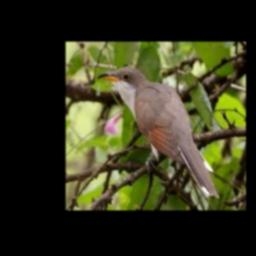Cuckoo: (97, 66, 219, 198)
